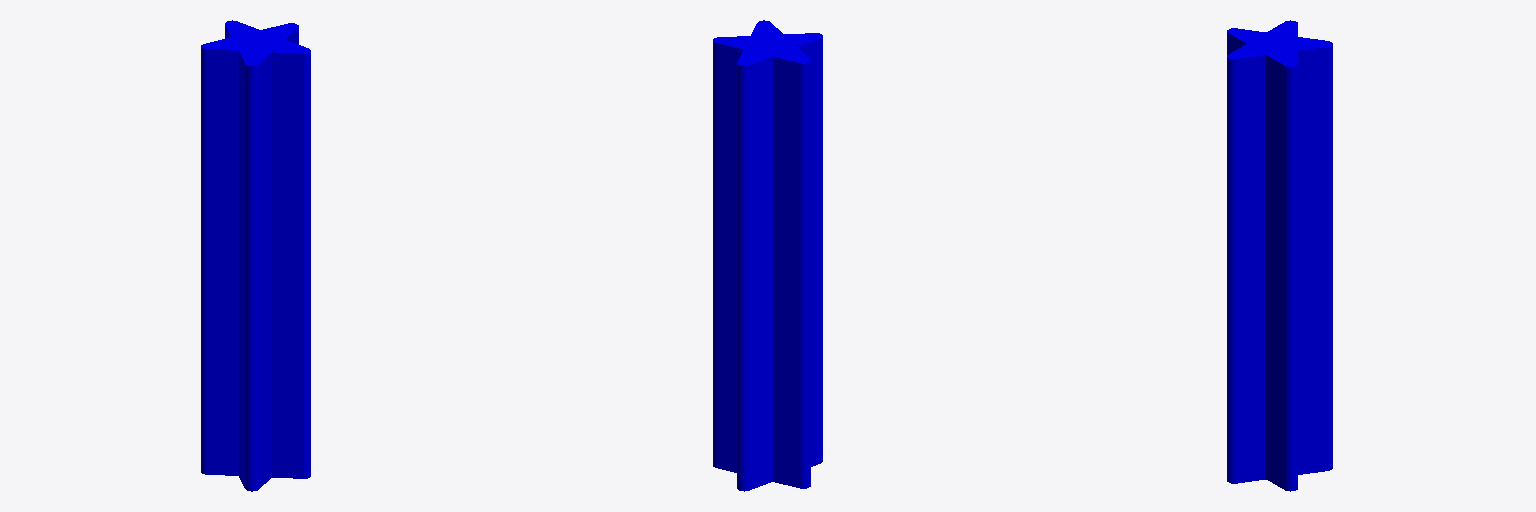
The robot description file, URDF, robot "board3_block18":
<?xml version="1.0"?>
<robot name="board3_block18">
    <link name="board3_block18">
        <visual>
            <origin xyz="0 0 0 " rpy=" 0 0 0"/>
            <geometry>
                <mesh filename="../meshes/SIMO_Board3_Block18.stl" scale="0.001 0.001 0.001"/>
            </geometry>
            <material name="red">
                <color rgba="0.0 0.0 1.0 1.0"/>
            </material>
        </visual>
        <collision>
            <origin xyz="0 0 0" rpy="0 0 0"/>
            <geometry>
                <mesh filename="../meshes/SIMO_Board3_Block18.stl" scale="0.001 0.001 0.001"/>
            </geometry>
        </collision>
    </link>
</robot>

--- Render facts (derived) ---
The picture shows the robot from 3 angles, left to right: view 1: azimuth 30°, elevation 25°; view 2: azimuth 150°, elevation 25°; view 3: azimuth 270°, elevation 25°; orthographic projection.
Robot: board3_block18 — 1 links, 0 joints (none); root link board3_block18; default pose: all joints at 0.
Visible links, largest first — view 1: board3_block18; view 2: board3_block18; view 3: board3_block18.
Link boxes in pixels (x1,y1,x2,y2): board3_block18: (201, 20, 310, 491); board3_block18: (713, 20, 822, 491); board3_block18: (1227, 20, 1332, 491).
Bounding box of the posed robot: 0.0354 × 0.0339 × 0.15 m (x, y, z).
Meshes: 1 distinct files referenced, 1 mesh visuals loaded (1 ASCII STL).
